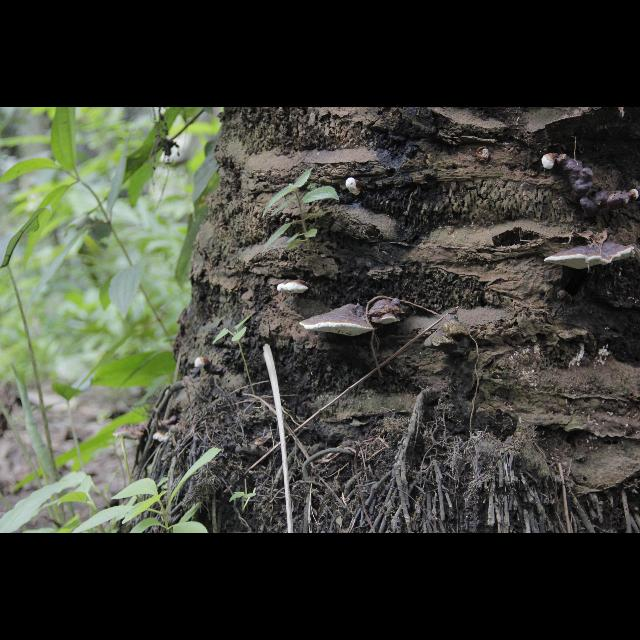ganoderma: (560, 154, 630, 218), (300, 304, 376, 338), (545, 243, 637, 271), (367, 300, 411, 327), (114, 422, 148, 442), (279, 281, 312, 296), (154, 430, 171, 444)
primordium: (347, 178, 364, 196), (543, 154, 560, 171), (195, 358, 213, 371), (631, 190, 640, 202)
